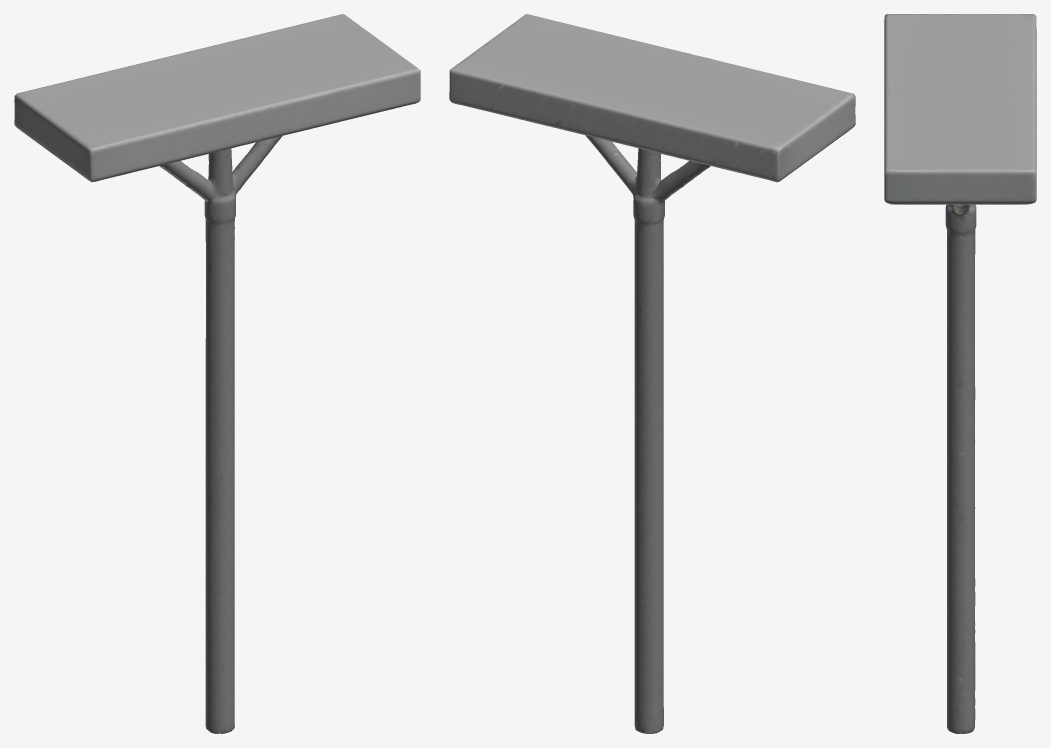
Rendered from streetlight_001_001.glb.
3 views of the same model, side by side, from view 1: azimuth 30°, elevation 25°; view 2: azimuth 150°, elevation 25°; view 3: azimuth 270°, elevation 25° (orthographic). The views are drawn at different scales.
Visible parts, largest first — view 1: streetlight_001_001_LOD0; view 2: streetlight_001_001_LOD0; view 3: streetlight_001_001_LOD0.
Boxes of the visible parts, box(x1,y1,x2,y2) form: streetlight_001_001_LOD0: box(14, 14, 420, 733); streetlight_001_001_LOD0: box(449, 14, 855, 733); streetlight_001_001_LOD0: box(884, 14, 1036, 733).
Size of what is drawn, in the model's own units: 4.27 by 8 by 1.74.
1 material, 1 textured.
